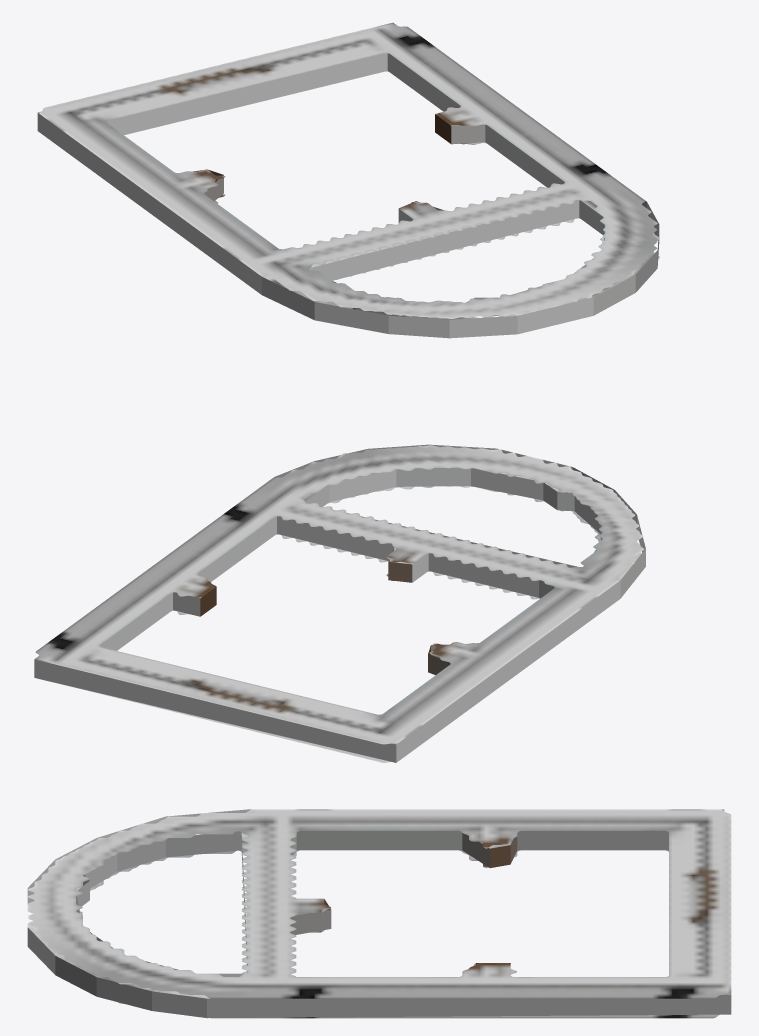
File: pz_native_fixtures_windows_white_75_frame.obj
3 views of the same model, one above another, from view 1: azimuth 30°, elevation 25°; view 2: azimuth 150°, elevation 25°; view 3: azimuth 270°, elevation 25° (orthographic). The views are drawn at different scales.
Visible parts, largest first — view 1: pz_native_fixtures_windows_white_75_frame; view 2: pz_native_fixtures_windows_white_75_frame; view 3: pz_native_fixtures_windows_white_75_frame.
Part boxes in pixels (x1,y1,x2,y2): pz_native_fixtures_windows_white_75_frame: (37, 22, 659, 338); pz_native_fixtures_windows_white_75_frame: (34, 444, 645, 762); pz_native_fixtures_windows_white_75_frame: (27, 809, 731, 1018).
Bounding box in the file's own units: 0.875 × 0.04 × 1.35.
1 material, 1 textured.
